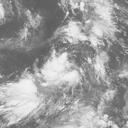cyclone: (34, 22, 105, 97)
